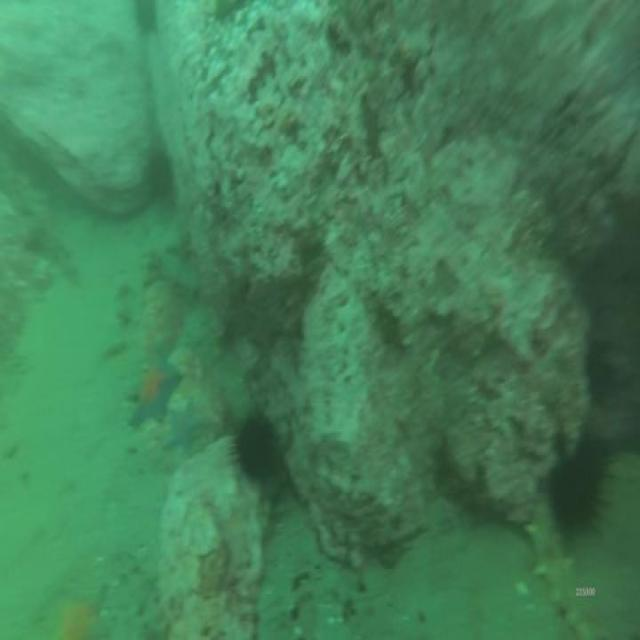echinus: (554, 444, 602, 529), (236, 412, 278, 482), (144, 147, 175, 205)
holothurian: (524, 505, 593, 640), (148, 250, 200, 298)
scallop: (512, 580, 528, 602)
starfish: (128, 359, 184, 417), (50, 584, 104, 640), (162, 414, 195, 446)
